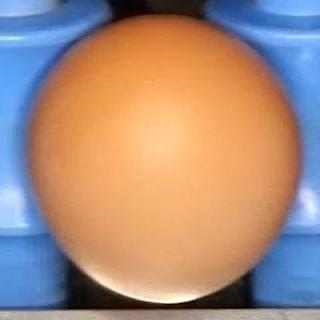Telur: (18, 11, 308, 306)
